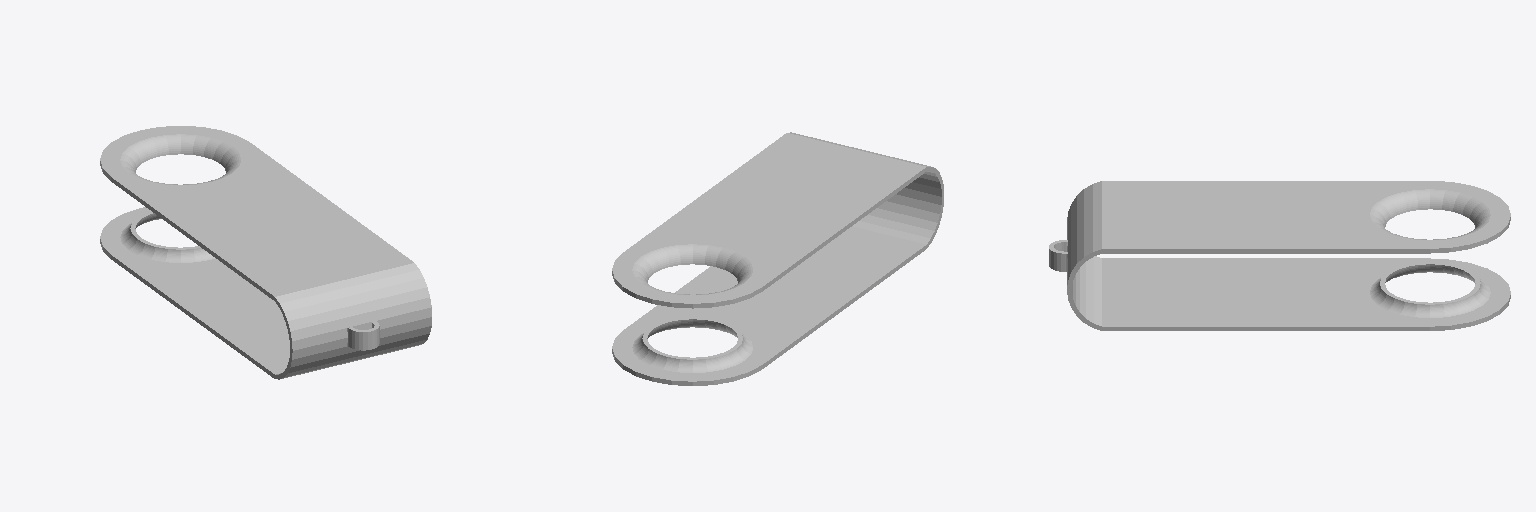
The model's file is original-1.obj.
3 views of the same model, side by side, from view 1: azimuth 30°, elevation 25°; view 2: azimuth 150°, elevation 25°; view 3: azimuth 270°, elevation 25° (orthographic).
Visible parts, largest first — view 1: Group4/mesh4/mesh4-geometry#mesh4-geometry; view 2: Group4/mesh4/mesh4-geometry#mesh4-geometry; view 3: Group4/mesh4/mesh4-geometry#mesh4-geometry.
Boxes of the visible parts, box(x1,y1,x2,y2) form: Group4/mesh4/mesh4-geometry#mesh4-geometry: box(100, 126, 431, 379); Group4/mesh4/mesh4-geometry#mesh4-geometry: box(612, 132, 943, 385); Group4/mesh4/mesh4-geometry#mesh4-geometry: box(1049, 181, 1510, 330).
Size of the model in its own units: 0.5753 by 0.3236 by 1.65.